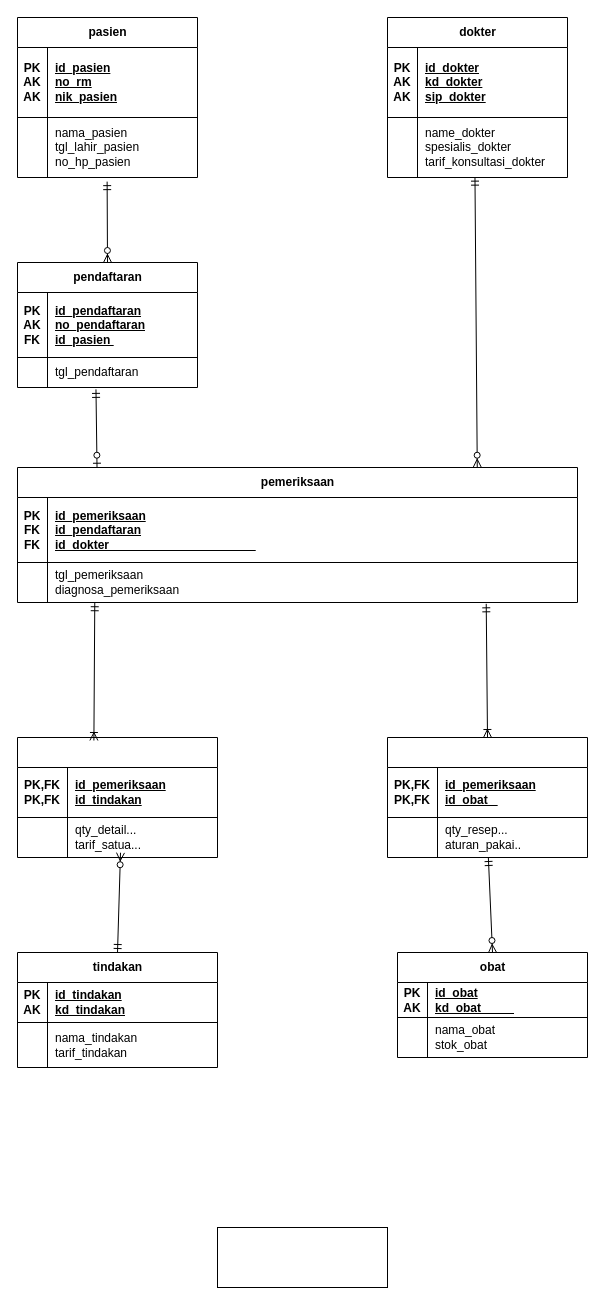
Some shapes in this 605 by 1311 pixel diagram are drawn without their labels. The shapes that lost their labels are listed below. From the top down, each one's box as (x1, y1, x2, y2) in pixels, then its label:
(16, 736, 218, 858): detail_tindakan
(386, 736, 588, 858): resep_detail
(216, 1226, 388, 1288): Nama : Kaylani Eka Putri D. NIM : 25430026 Proyek: Klinik 026
